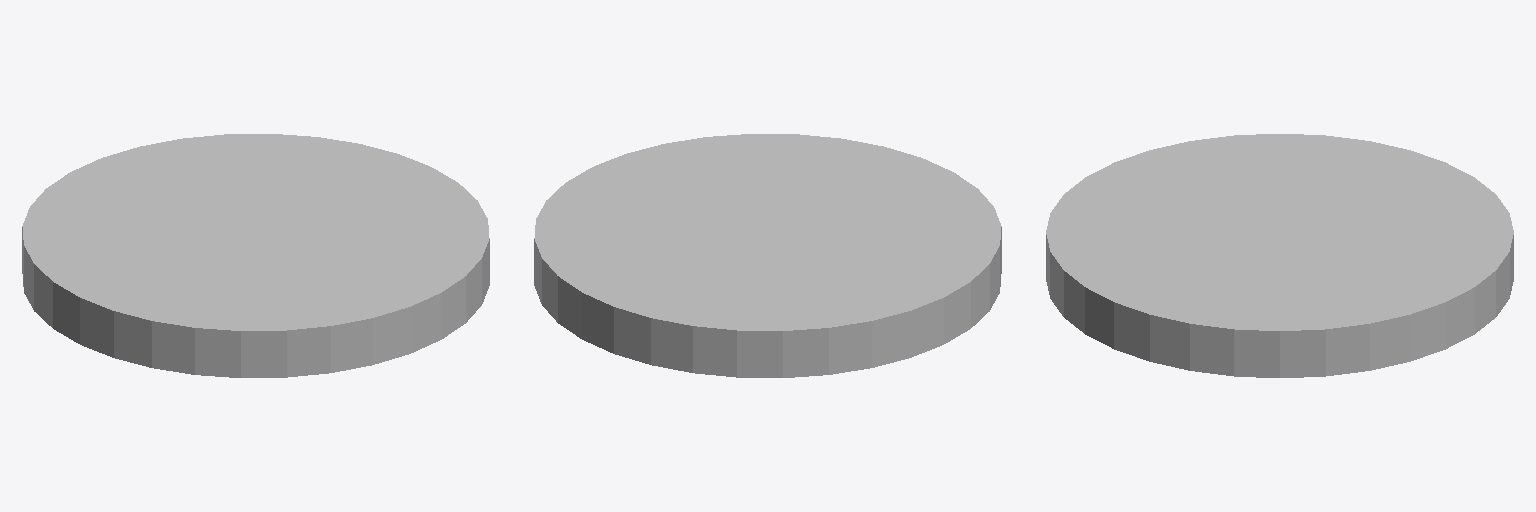
File: tokens.obj
The picture shows the model from 3 angles: view 1: azimuth 30°, elevation 25°; view 2: azimuth 150°, elevation 25°; view 3: azimuth 270°, elevation 25°; orthographic projection.
Parts seen in each view (by area): view 1: tokenRound_basic; view 2: tokenRound_basic; view 3: tokenRound_basic.
Part boxes in pixels (left/top/right/bottom): tokenRound_basic: left=22, top=134, right=489, bottom=377; tokenRound_basic: left=534, top=134, right=1001, bottom=377; tokenRound_basic: left=1046, top=134, right=1513, bottom=377.
Size of the model in its own units: 0.9 by 0.1 by 0.9.